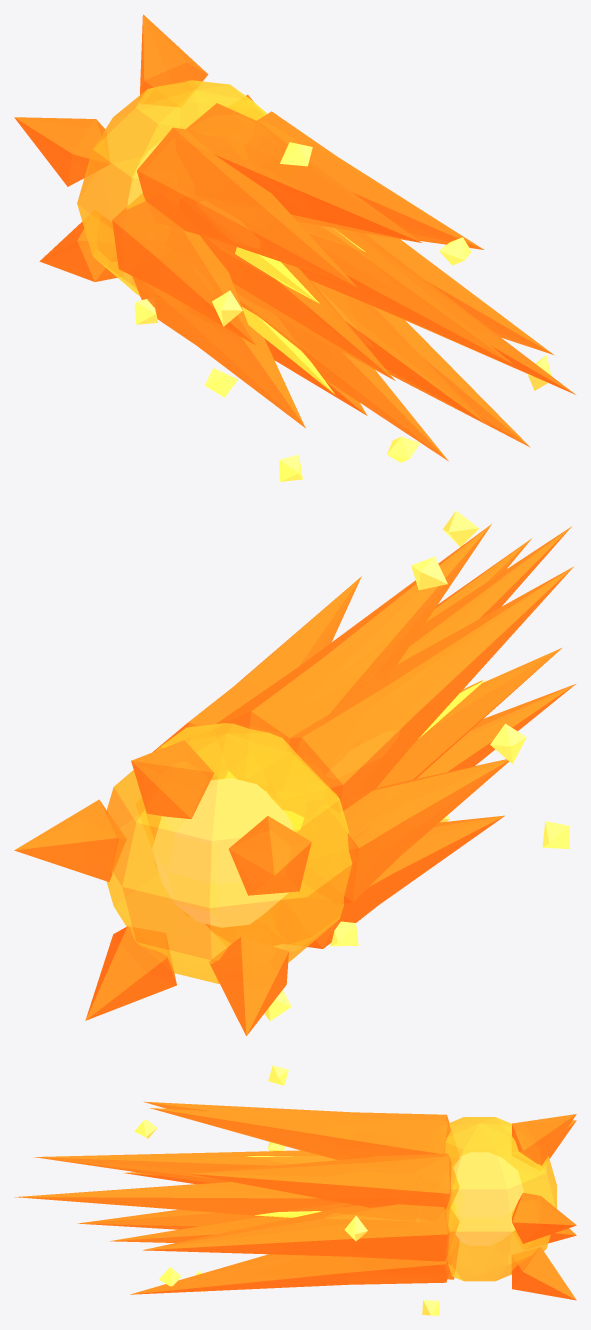
File: Magic_Fireball.glb
3 renders of one model, top to bottom at view 1: azimuth 30°, elevation 25°; view 2: azimuth 150°, elevation 25°; view 3: azimuth 270°, elevation 25°, orthographic. The views are drawn at different scales.
Visible parts, largest first — view 1: Fireball_Flames, Fireball_Shell, Fireball_Crown, Fireball_Embers, Fireball_FlameTips; view 2: Fireball_Flames, Fireball_Shell, Fireball_Crown, Fireball_Core, Fireball_Embers, Fireball_FlameTips; view 3: Fireball_Flames, Fireball_Shell, Fireball_Crown, Fireball_Core, Fireball_Embers, Fireball_FlameTips.
Part boxes in pixels (x1,y1,x2,y2): Fireball_Flames: (112,103,575,461); Fireball_Shell: (77,80,267,296); Fireball_Crown: (14,14,253,281); Fireball_Embers: (134,142,551,481); Fireball_FlameTips: (235,228,365,394); Fireball_Flames: (145,524,576,948); Fireball_Shell: (106,723,352,983); Fireball_Crown: (14,740,311,1035); Fireball_Core: (152,778,293,927); Fireball_Embers: (264,510,569,1020); Fireball_FlameTips: (225,679,485,832); Fireball_Flames: (14,1101,459,1294); Fireball_Shell: (445,1117,556,1281); Fireball_Crown: (511,1114,576,1300); Fireball_Core: (454,1152,523,1245); Fireball_Embers: (134,1065,439,1315); Fireball_FlameTips: (246,1156,454,1217).
Size of the model in its own units: 0.5365 by 0.6636 by 1.41.
